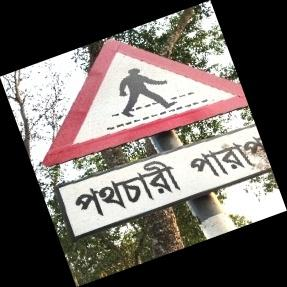Pedestrian-crossing: (40, 41, 273, 237)
